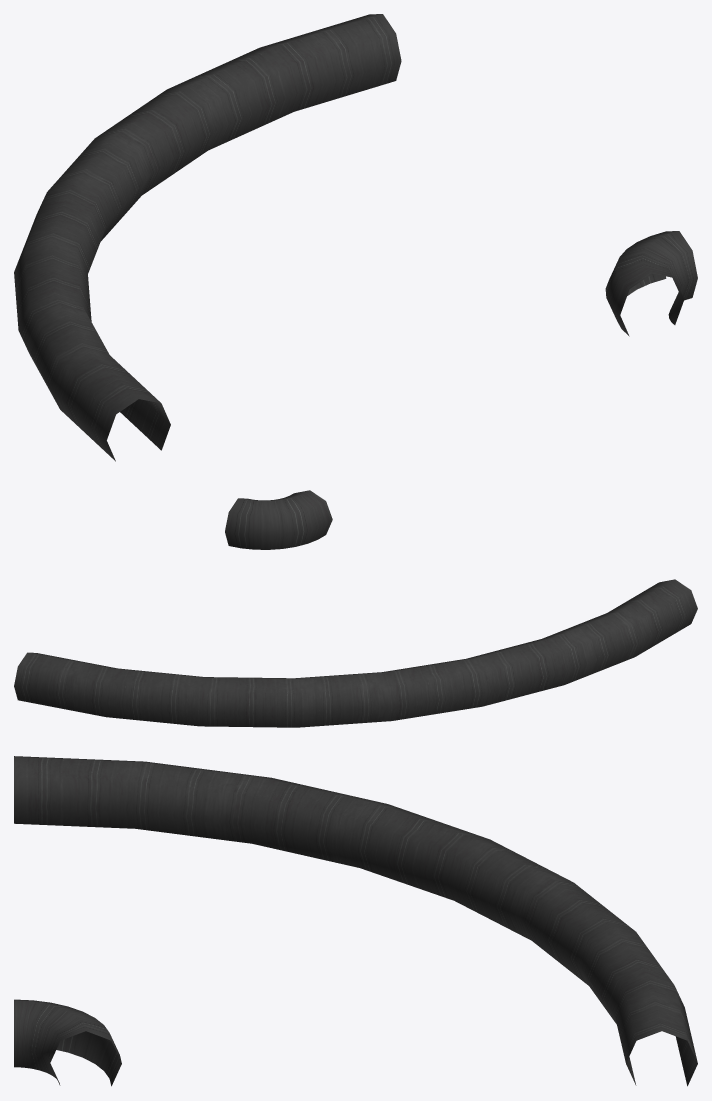
Rendered from small_black_edge_corner_simple.dae.
3 renders of one model, top to bottom at view 1: azimuth 30°, elevation 25°; view 2: azimuth 150°, elevation 25°; view 3: azimuth 270°, elevation 25°, orthographic. The views are drawn at different scales.
Parts seen in each view (by area): view 1: small_black_edge_corner; view 2: small_black_edge_corner; view 3: small_black_edge_corner.
Part boxes in pixels (x1=…): small_black_edge_corner: x1=14, y1=14, x2=697, y2=461; small_black_edge_corner: x1=14, y1=490, x2=697, y2=727; small_black_edge_corner: x1=14, y1=756, x2=697, y2=1086.
Size of the model in its own units: 0.95 by 0.95 by 0.0854.
1 material, 1 textured.
